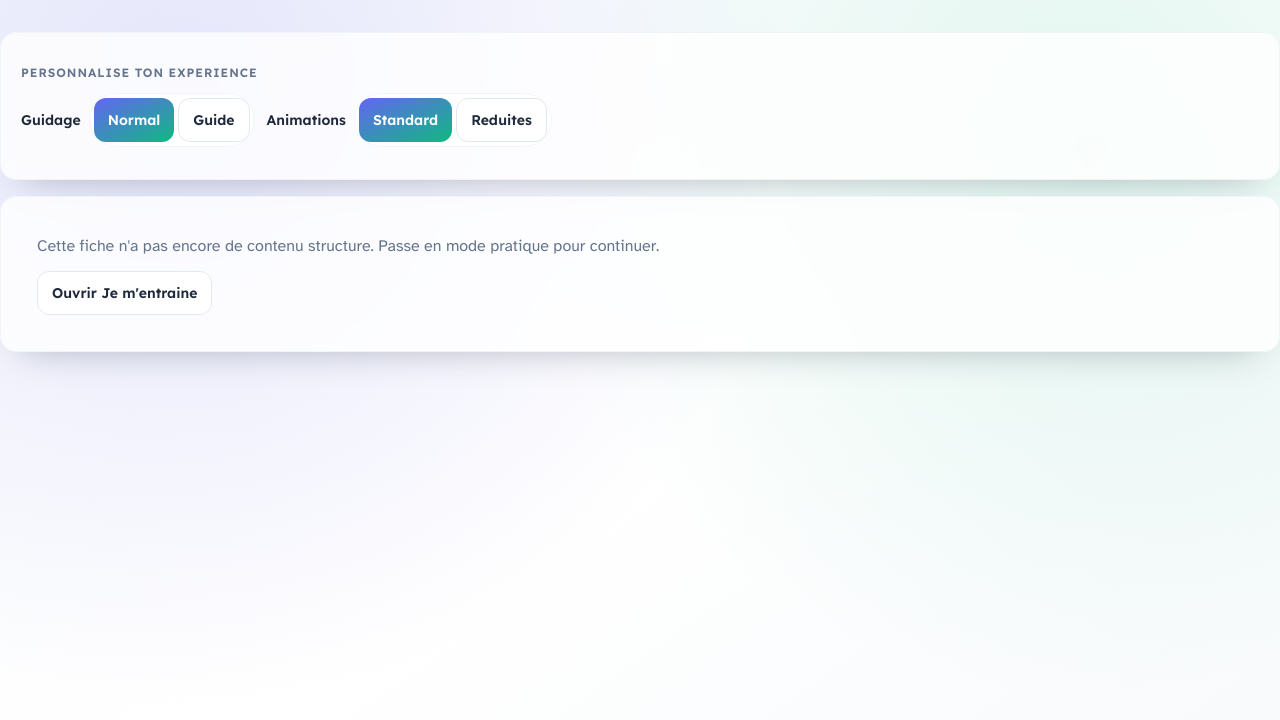
Test: RevisionCardView › disables extra exercises generation when structured content is missing
The width and height of the screenshot is (1280, 720).
What coordinates should you click on to do the following:
click the button with test id "revision-sheet-to-practice"
I would click on:
 (125, 293)
Its box is [37, 271, 212, 315].
(page scrolled)
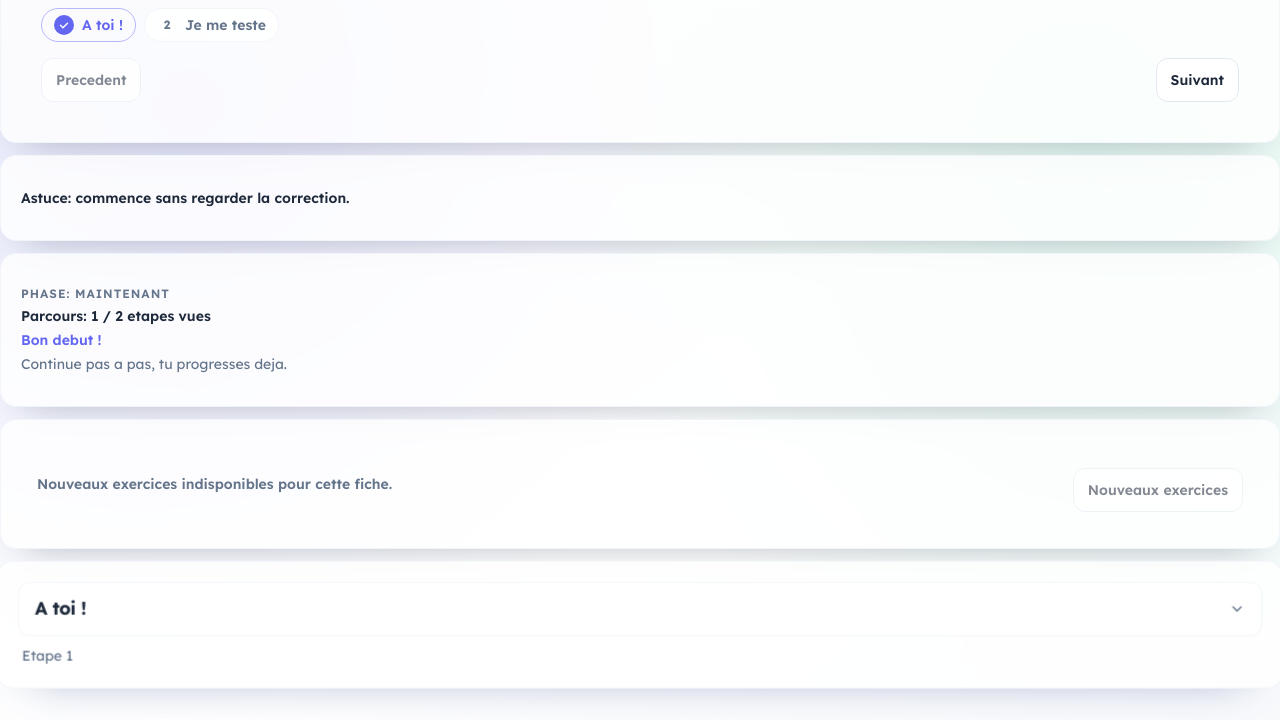
expect the button with test id "revision-generate-extra-exercises" is disabled: met, box [1073, 468, 1243, 512]
expect the text with test id "revision-extra-exercises-hint" reads "Nouveaux exercices indisponibles pour cette fiche.": met, box [37, 475, 392, 493]
